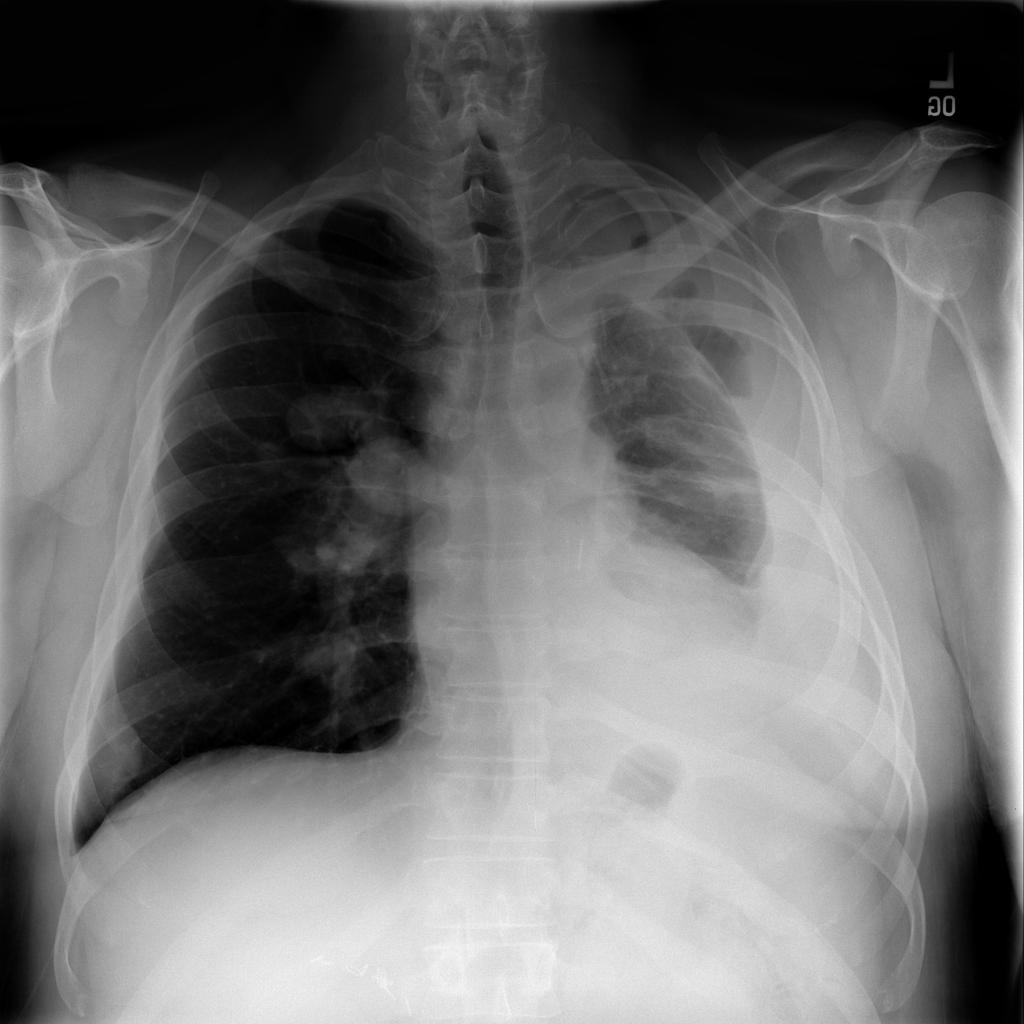nodule: (331, 417, 454, 531), (262, 375, 381, 472)
